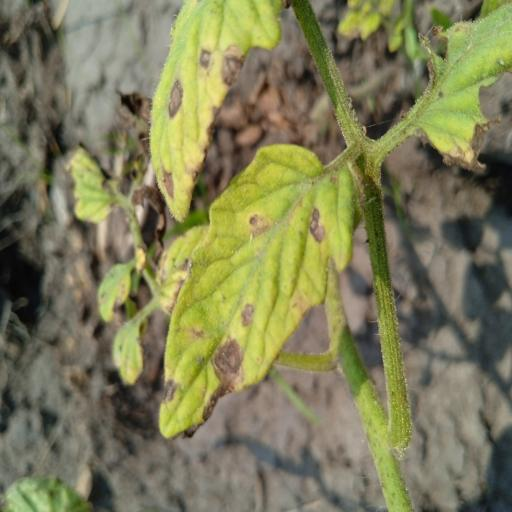Tomato_Brown_Spots: (156, 137, 361, 450), (149, 0, 294, 224)
